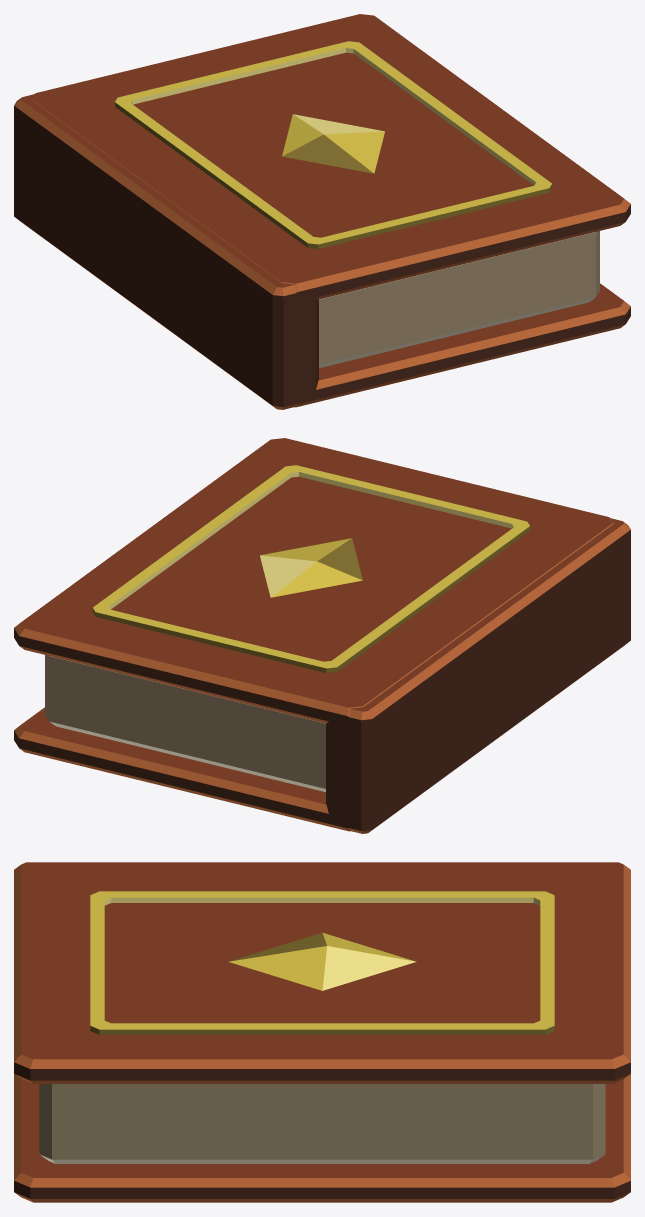
The model's file is book.fbx.
3 views of the same model, one above another, from view 1: azimuth 30°, elevation 25°; view 2: azimuth 150°, elevation 25°; view 3: azimuth 270°, elevation 25° (orthographic). The views are drawn at different scales.
Parts seen in each view (by area): view 1: book; view 2: book; view 3: book.
Boxes of the visible parts, bbox=[...] form: book: bbox=[14, 14, 630, 409]; book: bbox=[14, 438, 630, 833]; book: bbox=[14, 862, 630, 1202].
Bounding box in the file's own units: 1.33 × 0.53 × 1.7.
Materials: 1 (1 with a texture image).
